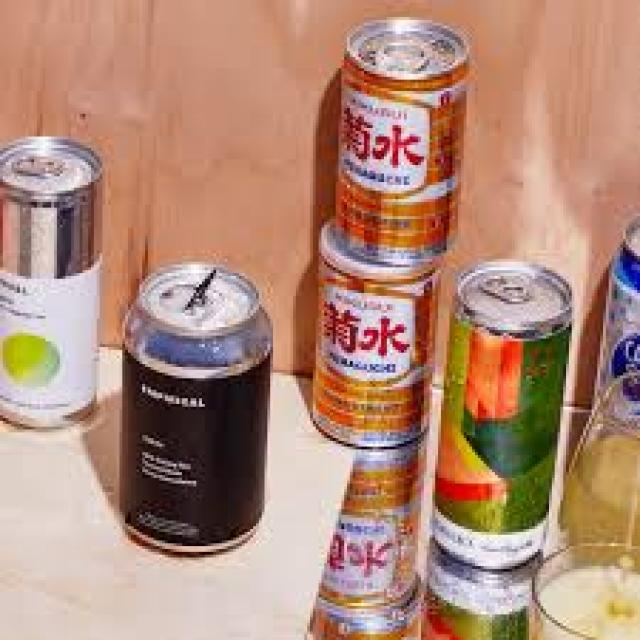Cans: (427, 250, 586, 572), (111, 262, 279, 560), (330, 14, 475, 268), (3, 128, 114, 435), (302, 248, 444, 455)
